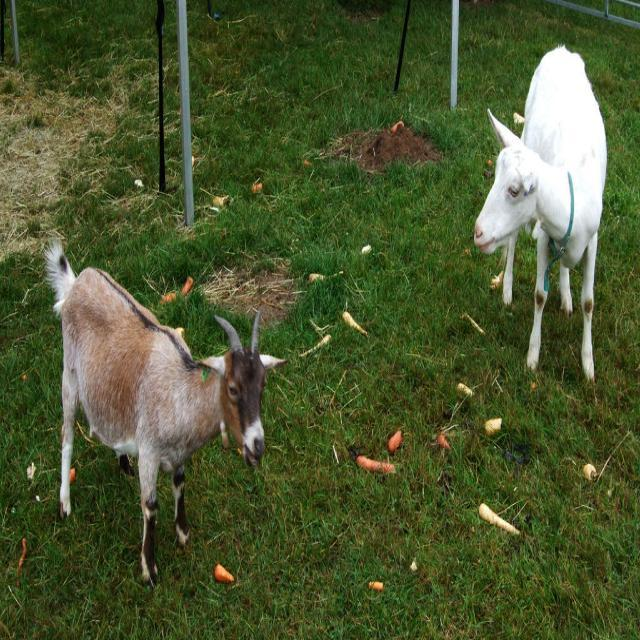Goat: (43, 237, 288, 590), (473, 42, 608, 383)
